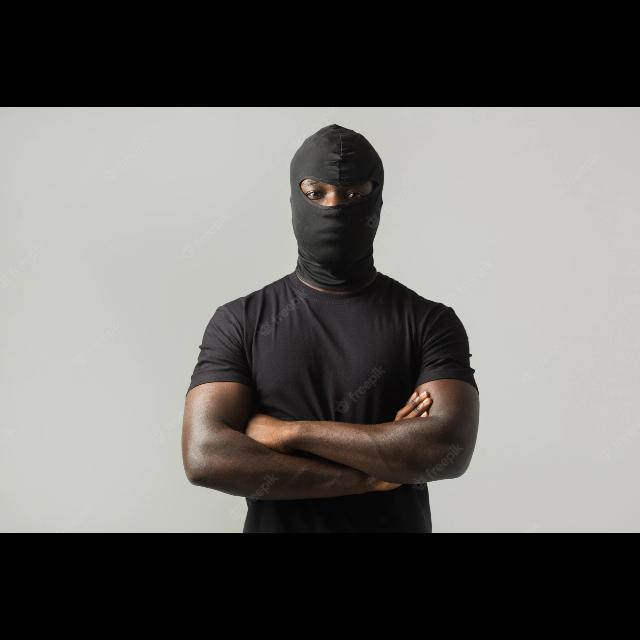criminal: (182, 123, 482, 532)
